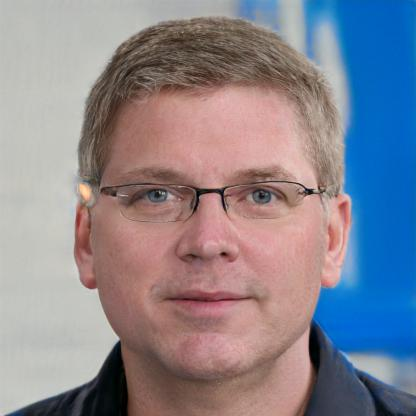glasses: (100, 175, 314, 232)
